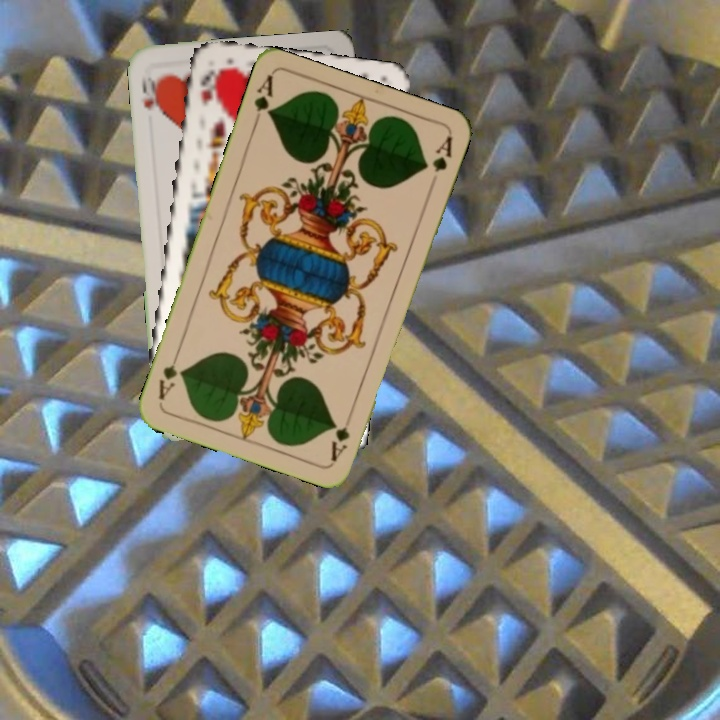GA: (249, 71, 276, 130), (326, 422, 353, 464)
HK: (196, 66, 219, 109)
HO: (138, 73, 165, 119)
